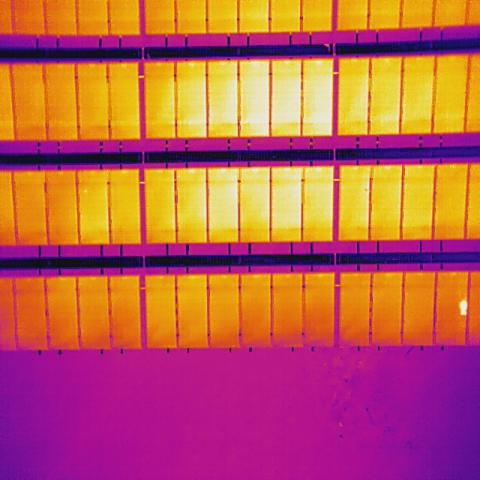fault: (459, 298, 468, 318)
